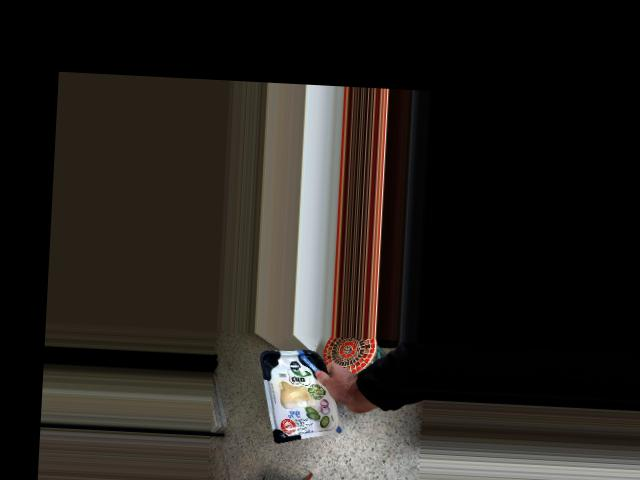cheese: (263, 342, 337, 447)
